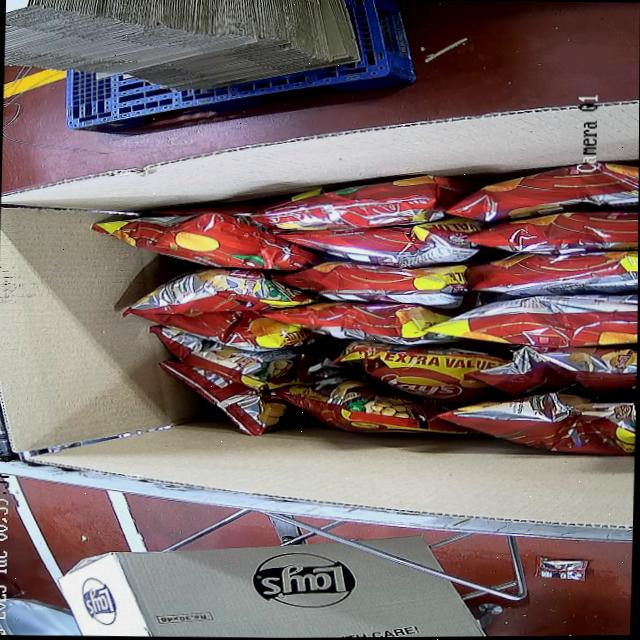MASALA: (88, 152, 639, 457)
